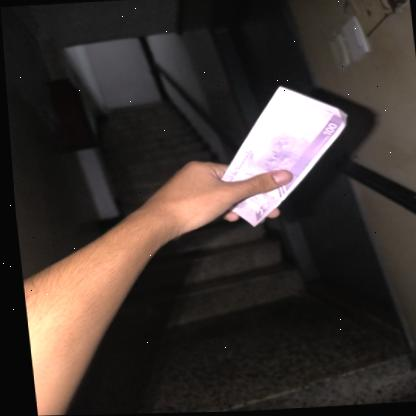vef_back: (205, 83, 356, 231)
